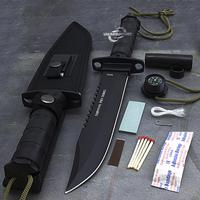knife: (60, 14, 140, 196)
